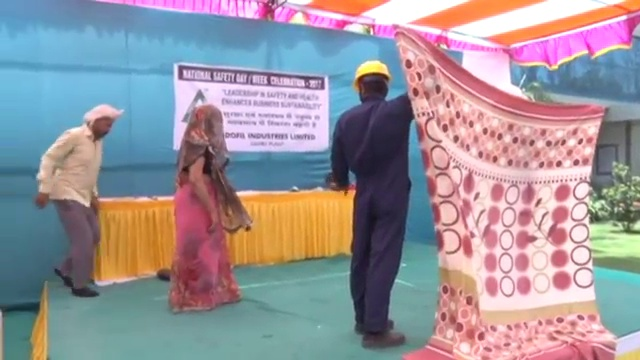helmet: (353, 60, 391, 92)
helmet_off: (84, 105, 122, 141), (192, 103, 223, 140)
helmet_on: (352, 58, 391, 104)
person: (327, 58, 414, 345), (34, 105, 129, 300), (167, 104, 251, 312)
